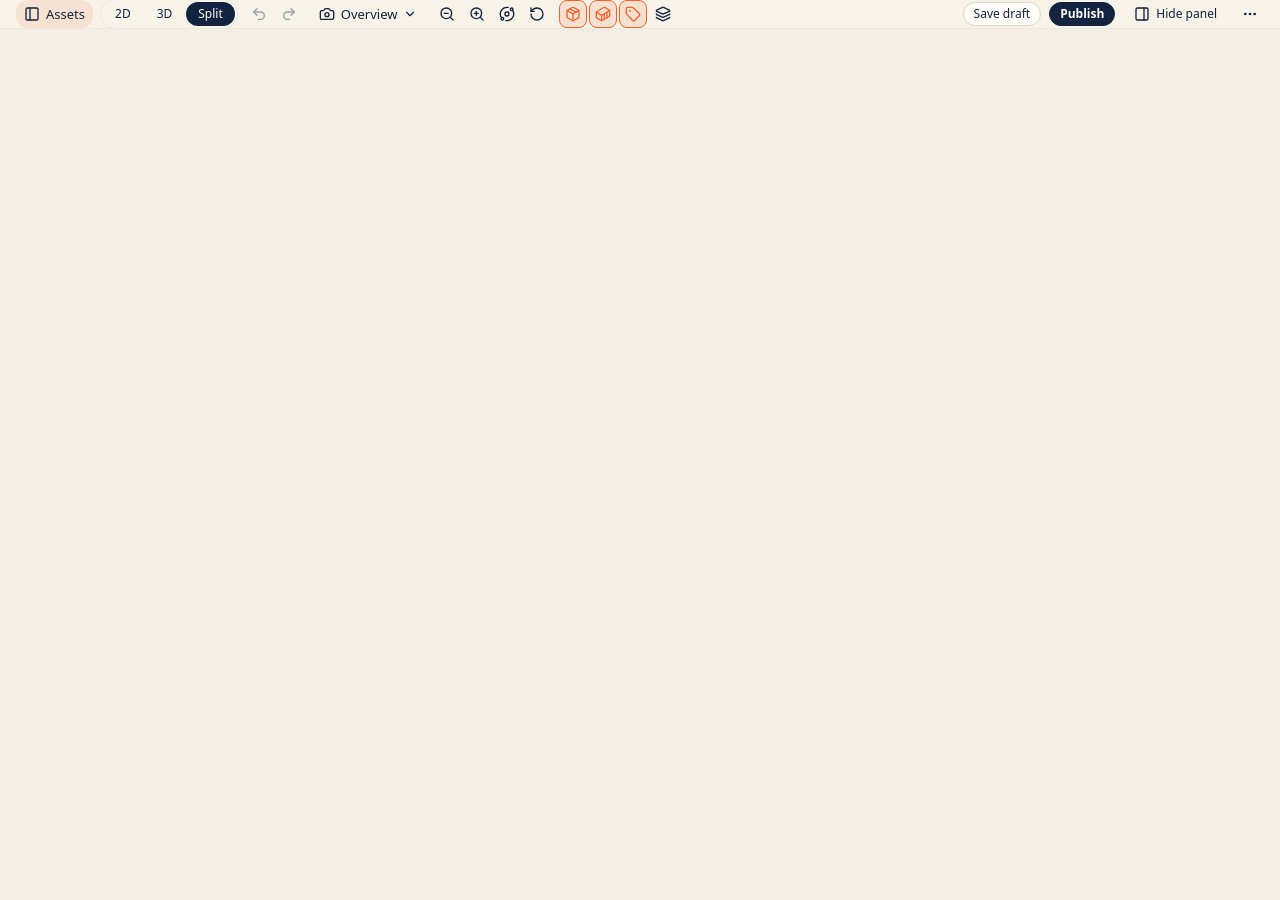
it: tool strip (Design) › has no Fullscreen, adds Verify accuracy to More and keeps the switches out of it
Step 1. Click the button named "More" → (1250, 14), box left=1236, top=0, right=1264, bottom=28
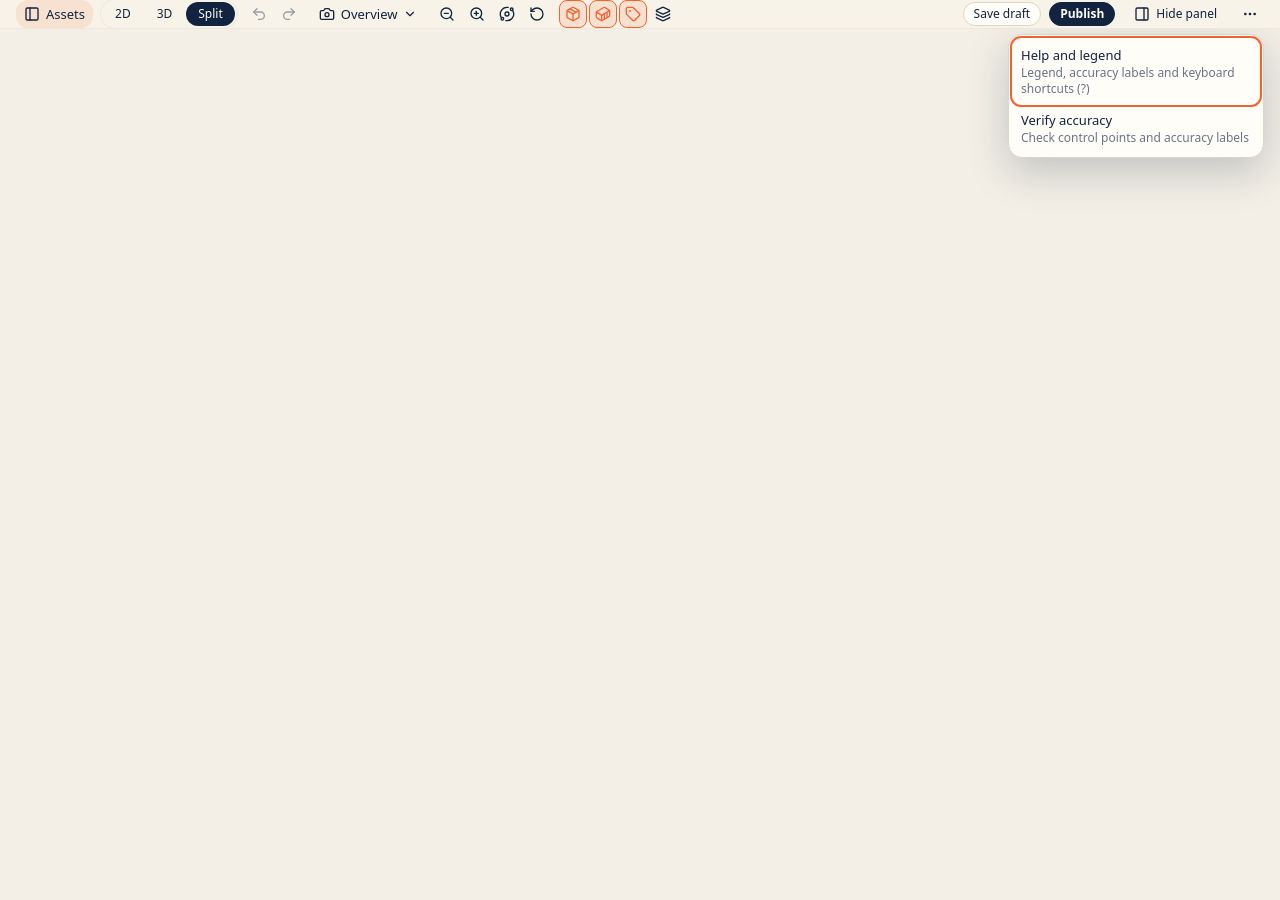
Check: the button "Verify accuracy Check control points and accuracy labels" is shown, box left=1013, top=104, right=1259, bottom=153
